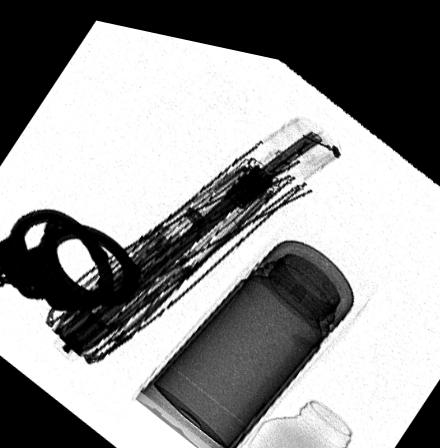HandCuffs: (0, 206, 141, 314)
